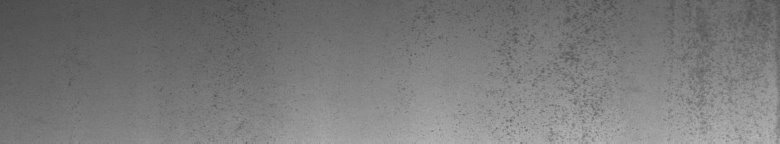ib: (432, 4, 606, 135)
